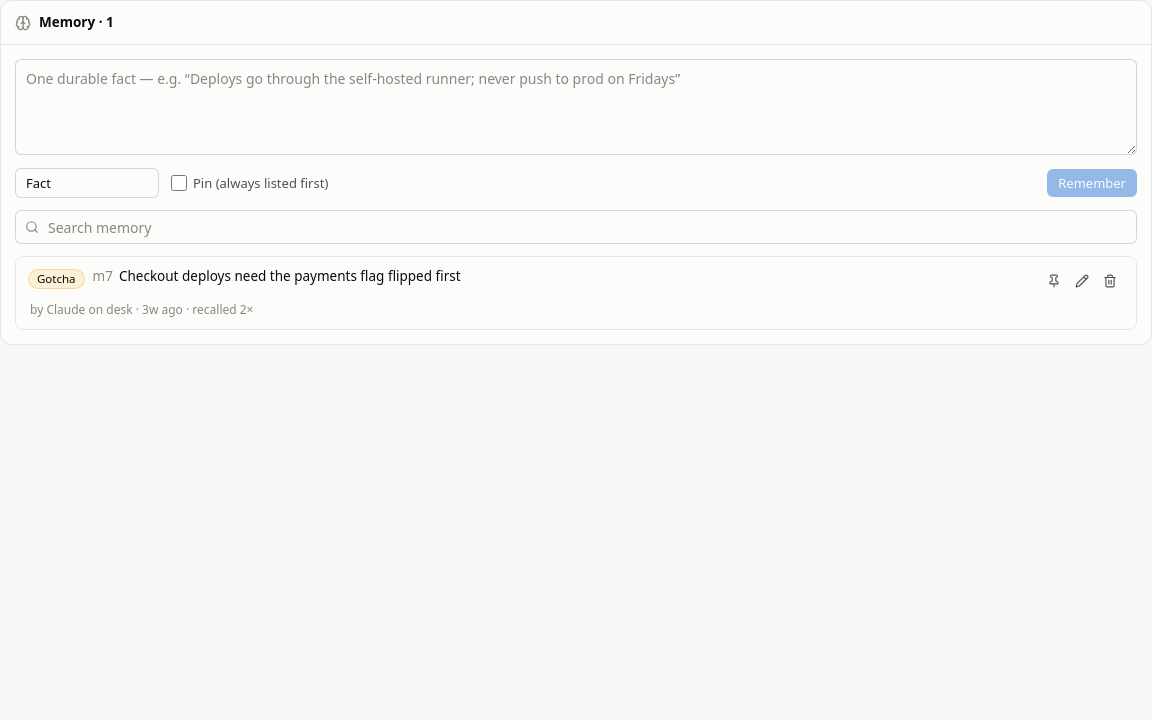
Test: Memory panel › lists, adds, pins and forgets
The image size is (1152, 720).
Expected: the text "m7Checkout deploys need the payments flag flipped first" is shown, x1=93 y1=267 x2=461 y2=285
Expected: the text "by Claude on desk · 3w ago · recalled 2×" is shown, x1=30 y1=301 x2=254 y2=318
Type "Use pnpm, never npm" into the text box named "New memory".
click(576, 107); type("Use pnpm, never npm")  # box x1=15 y1=59 x2=1137 y2=155
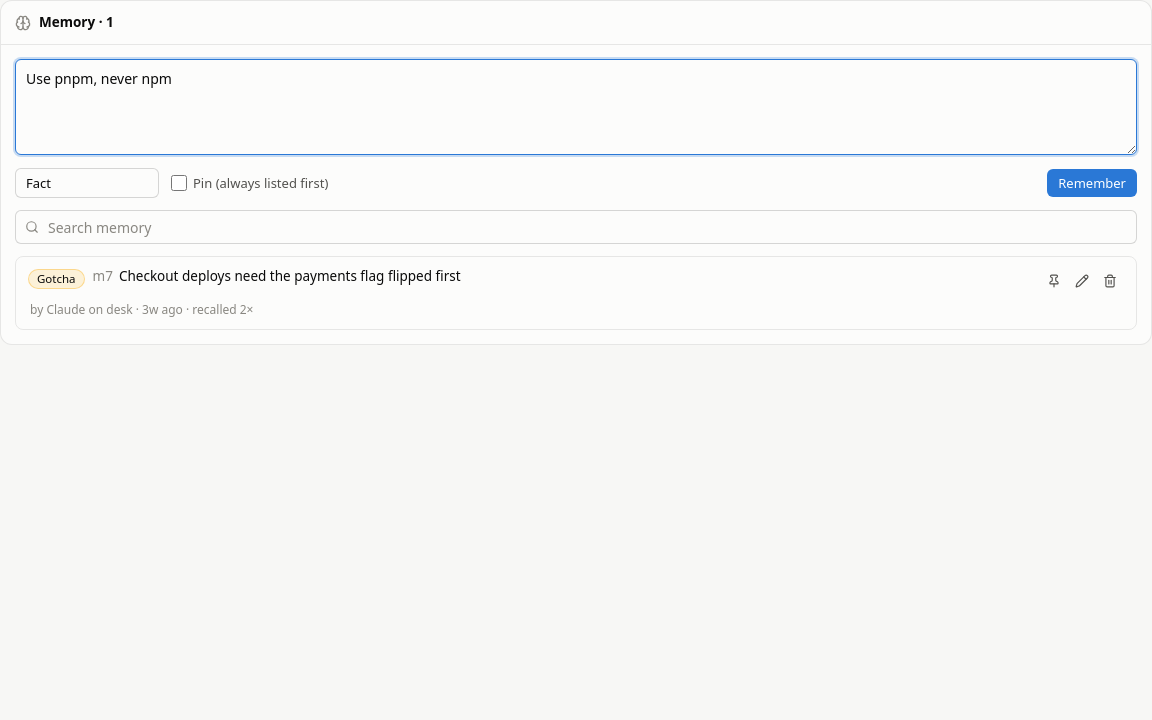
Select "Convention" in the dropdown named "Kind" at x=87, y=183, box x1=15 y1=168 x2=159 y2=198
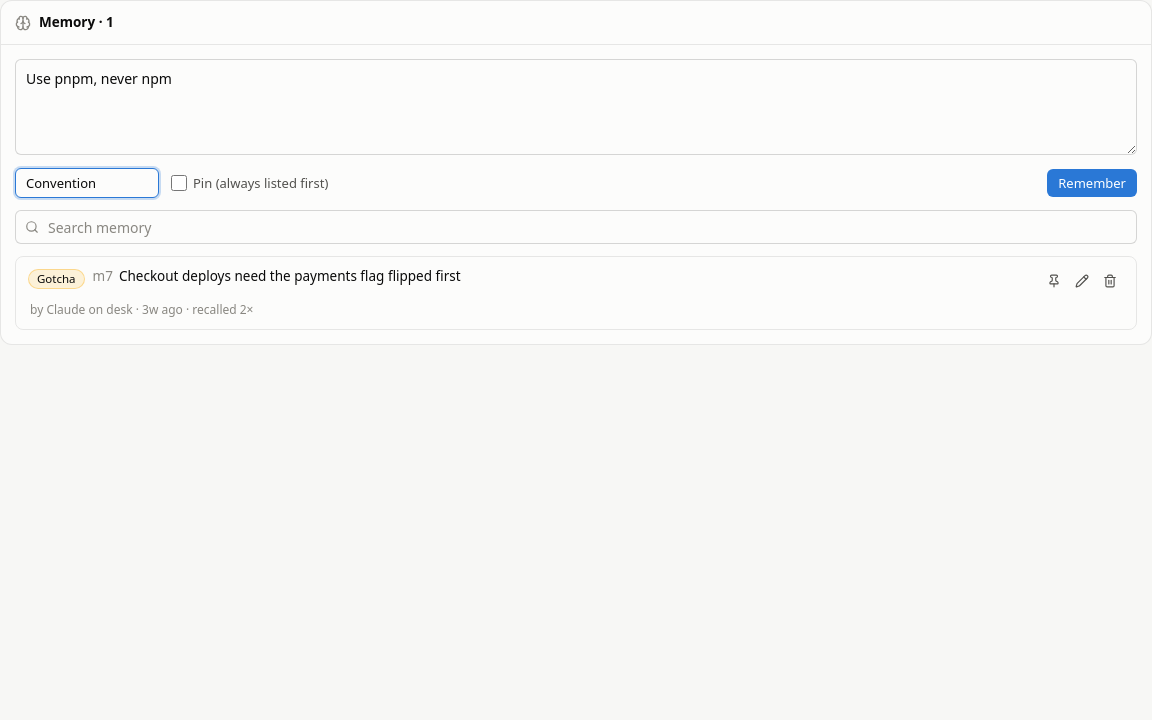
Click the button "Remember".
click(1092, 183)  # box x1=1047 y1=169 x2=1137 y2=197
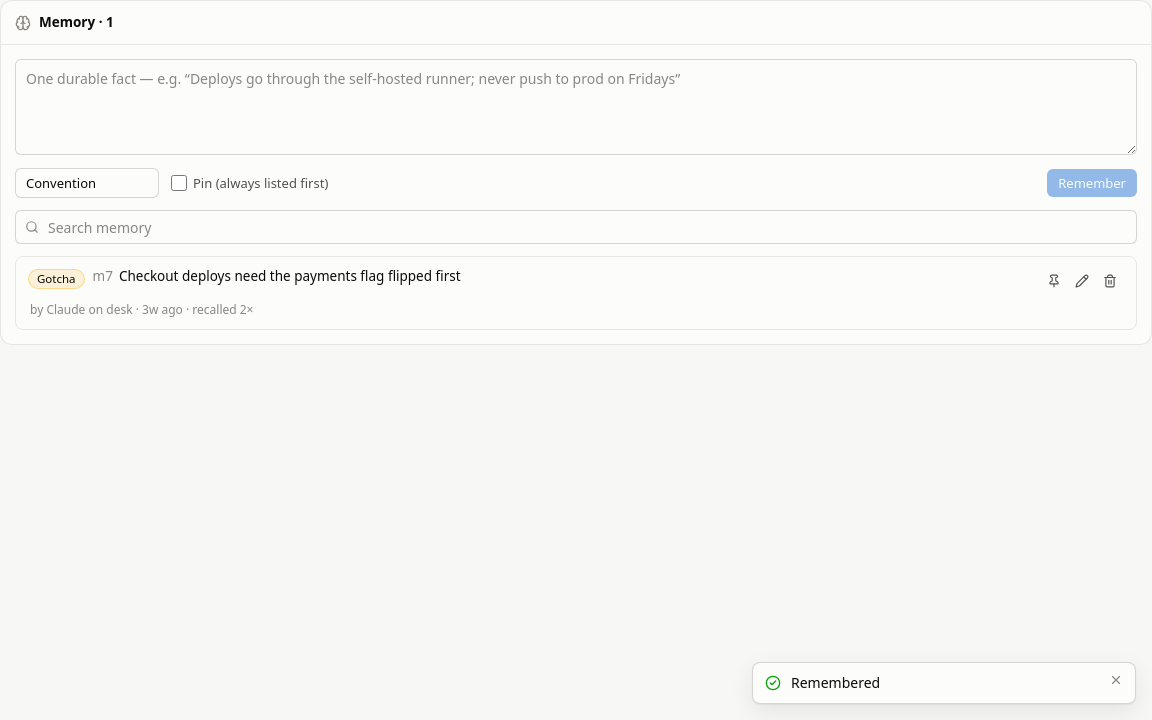
Click the button named "Pin".
click(1054, 281)  # box x1=1040 y1=267 x2=1068 y2=295
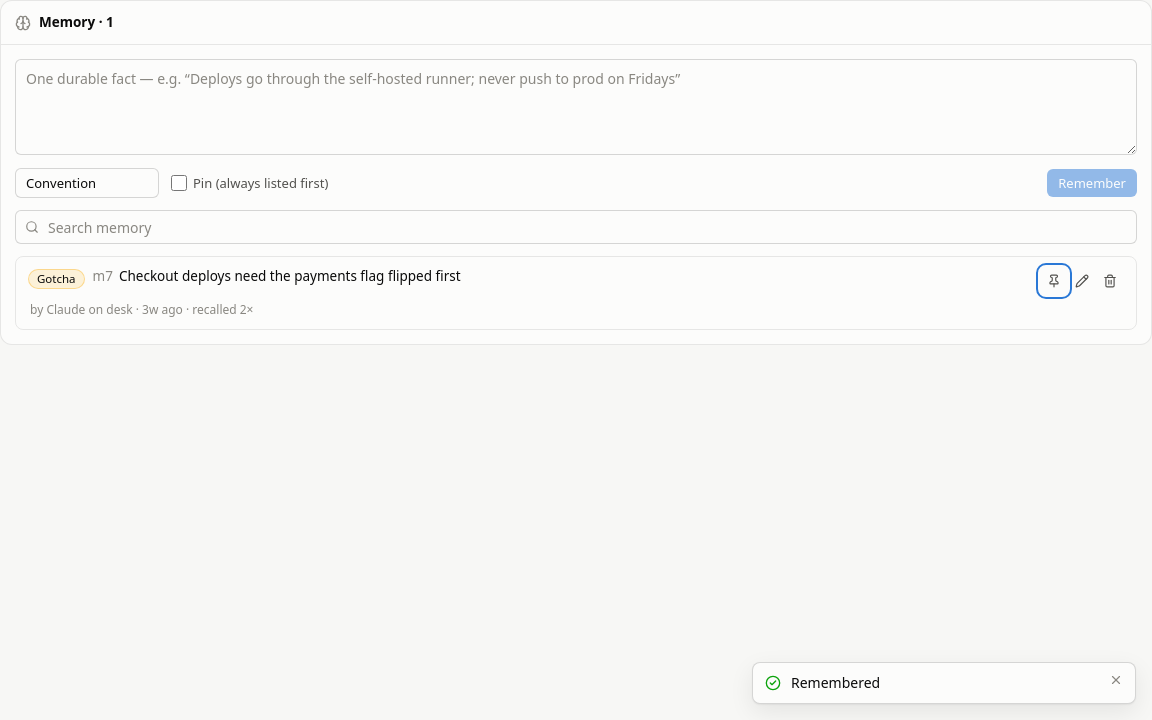
Click the button named "Forget".
click(1110, 281)  # box x1=1096 y1=267 x2=1124 y2=295
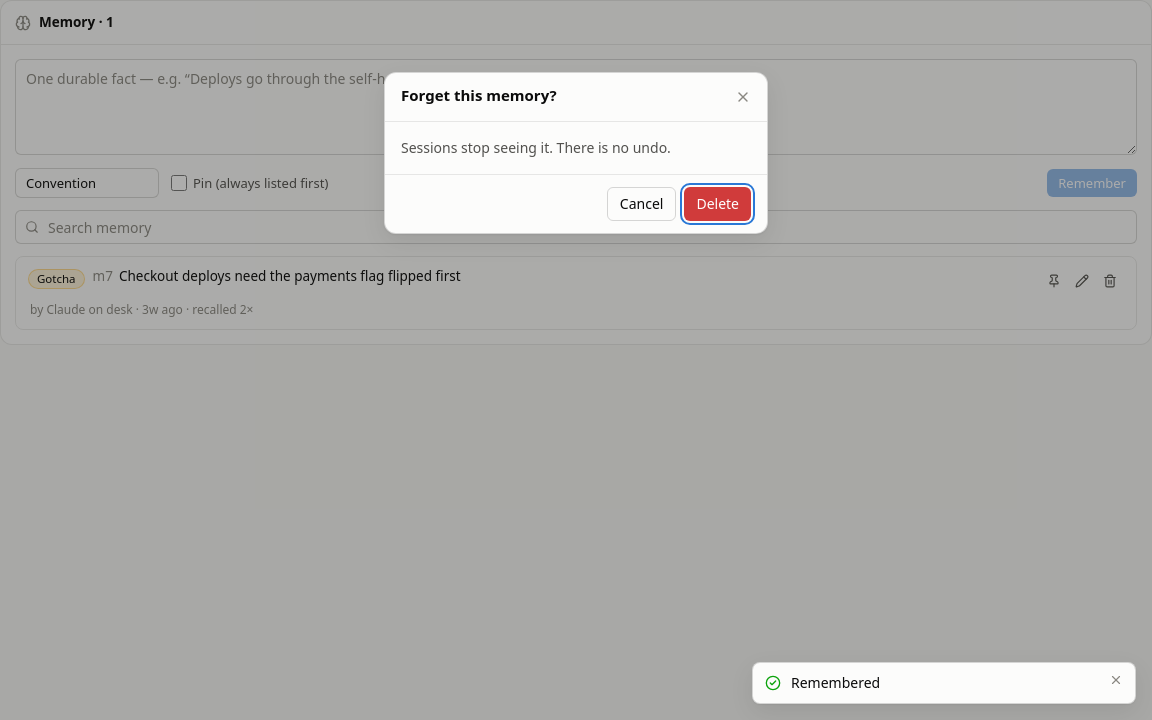
Click the button "Delete".
click(718, 204)  # box x1=684 y1=187 x2=751 y2=221
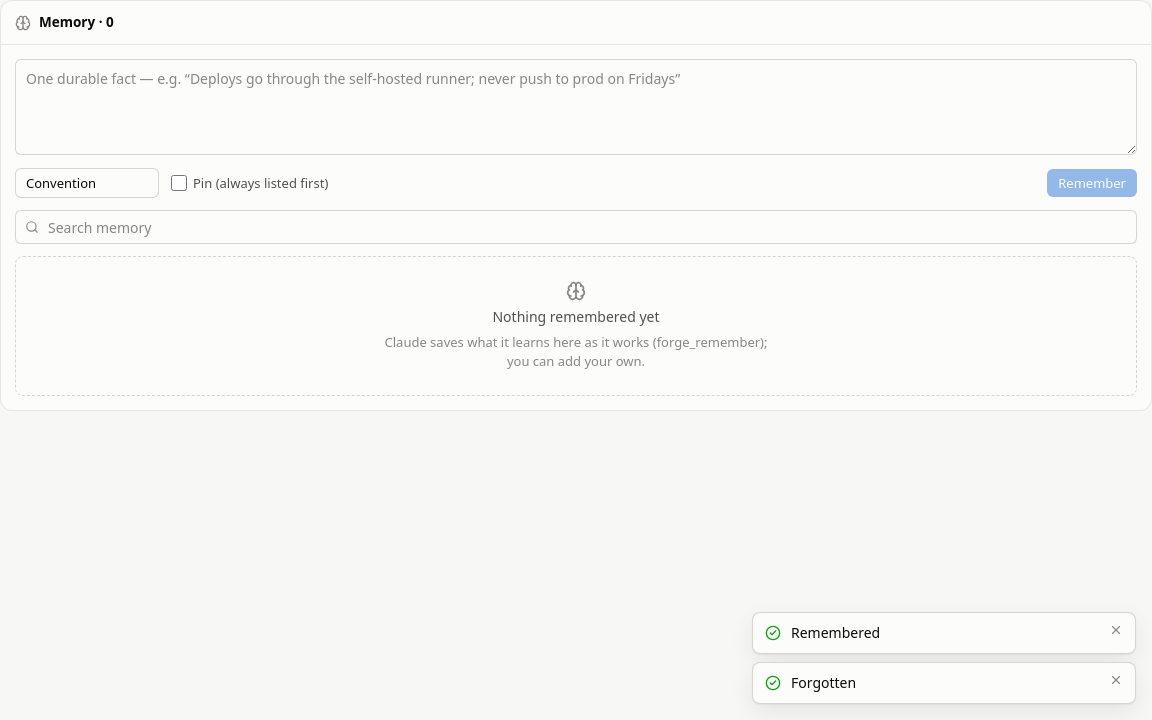
Expected: the text "Nothing remembered yet" is shown, x1=492 y1=307 x2=660 y2=327
